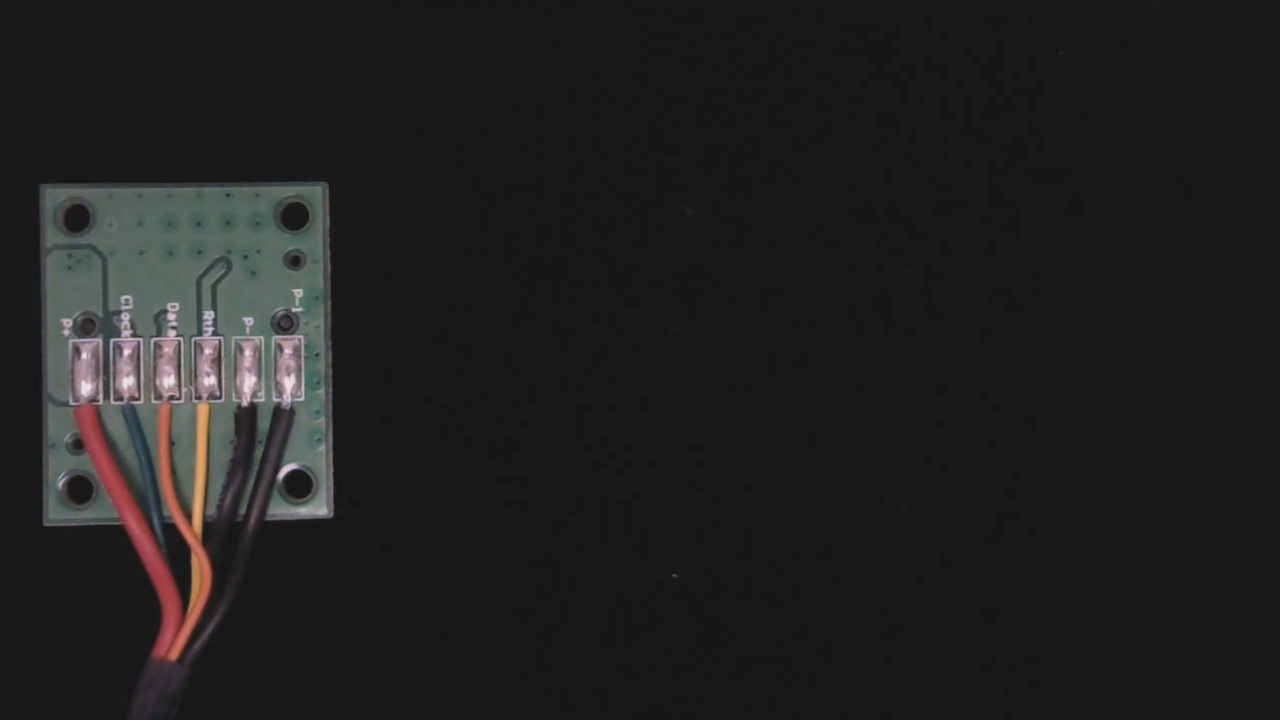Black: (233, 384, 267, 455)
Black1: (277, 384, 312, 453)
Green: (107, 384, 145, 457)
Orange: (151, 384, 187, 459)
Red: (63, 387, 101, 460)
Yellow: (189, 385, 227, 462)
